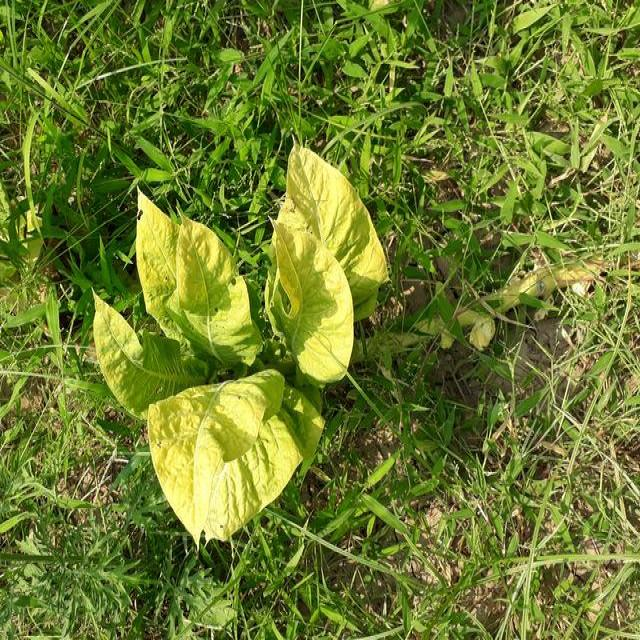crop: (102, 150, 382, 511)
